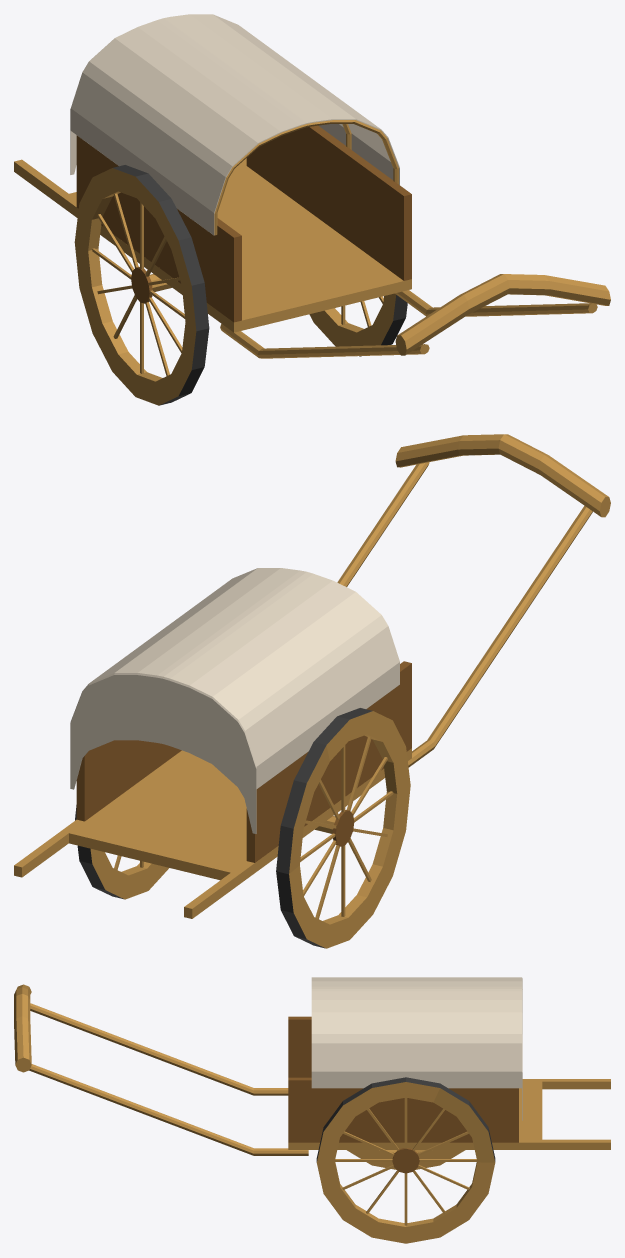
Rendered from balanced.fbx.
3 renders of one model, top to bottom at view 1: azimuth 30°, elevation 25°; view 2: azimuth 150°, elevation 25°; view 3: azimuth 270°, elevation 25°, orthographic. The views are drawn at different scales.
Visible parts, largest first — view 1: Balanced, Balanced.001; view 2: Balanced, Balanced.001; view 3: Balanced, Balanced.001.
Boxes of the visible parts, bbox=[...] form: Balanced: bbox=[14, 120, 610, 405]; Balanced.001: bbox=[70, 14, 399, 235]; Balanced: bbox=[14, 434, 610, 948]; Balanced.001: bbox=[70, 568, 399, 833]; Balanced: bbox=[14, 984, 610, 1243]; Balanced.001: bbox=[311, 977, 522, 1120].
Size of the model in its own units: 1.32 by 1.74 by 4.35.
